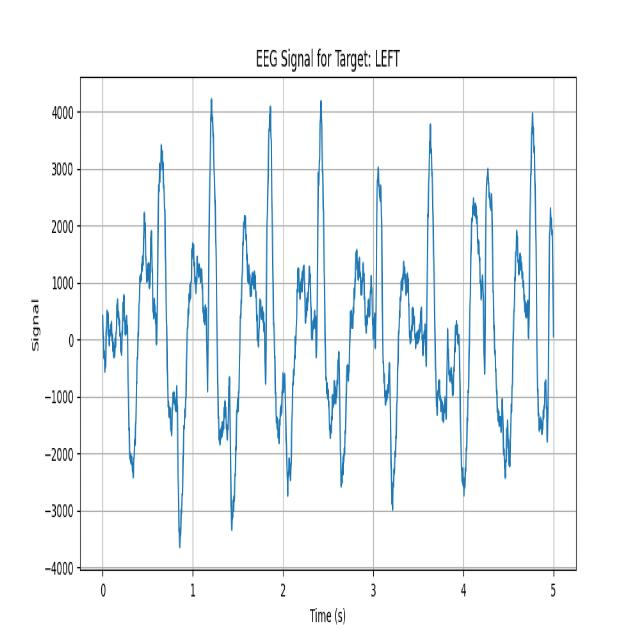LEFT: (392, 83, 463, 543), (236, 91, 292, 537), (292, 91, 344, 546), (129, 115, 182, 553), (184, 91, 234, 548), (345, 91, 391, 547), (507, 110, 556, 529)
